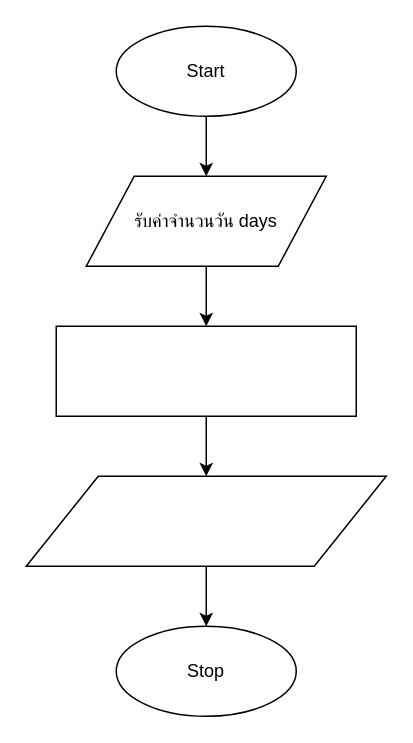
The diagram is 413 pixels wide and 743 high, and some of its shapes have lost their labels. Here are the shapes that lost their labels. From the top down, the centre of each, then its label:
the point at 205,370: คำนวณ seconds = days * 24 * 60 * 60
the point at 205,520: แสดงผล: days day(s) = seconds second(s)
